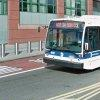Bus: (37, 10, 97, 76)
